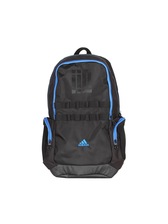bag: (40, 51, 130, 180)
